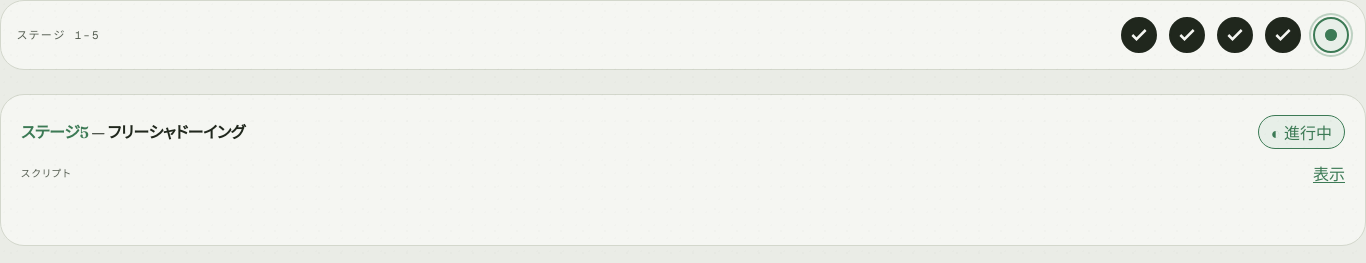
SegmentStageWorkspace › jumps to the next incomplete segment once the final stage is completed
Note: Completing the last in-progress stage marks the segment fully done.
Click the button "◐ 進行中". click: (1301, 132)
box: 1258,115 -> 1345,149
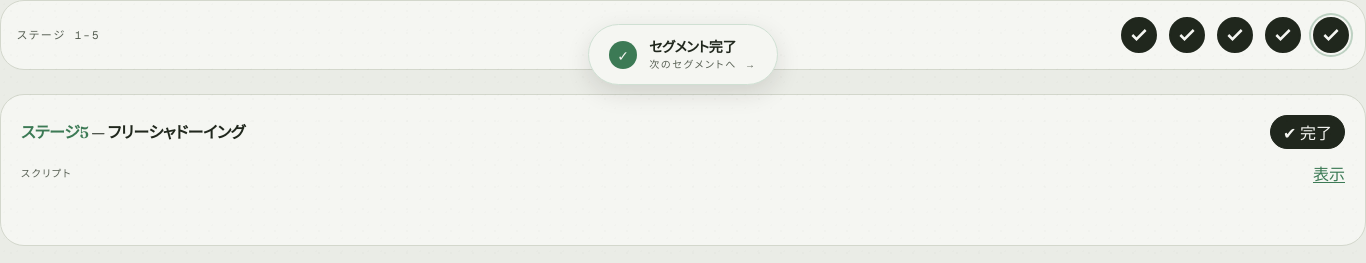
expect the text "セグメント完了" is shown: met, box 649,38 -> 736,56
